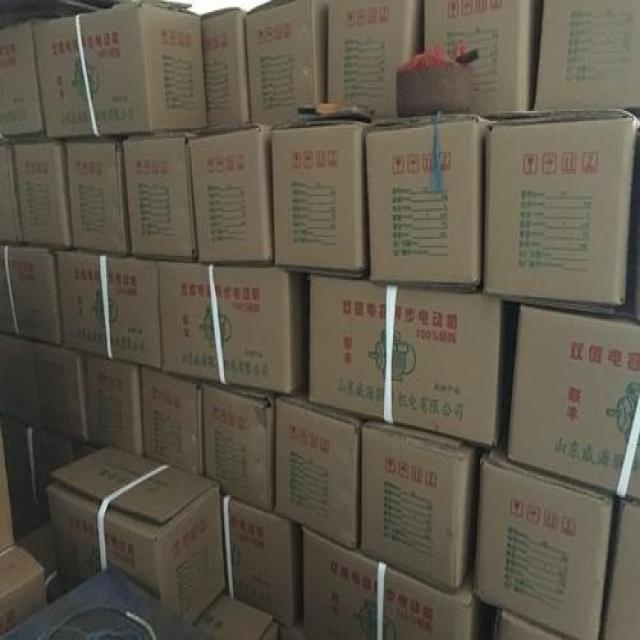box: (308, 271, 504, 451), (472, 108, 637, 319), (46, 444, 227, 625), (475, 425, 613, 640), (508, 305, 640, 502), (32, 0, 209, 138), (364, 113, 486, 292), (360, 418, 483, 594), (303, 526, 488, 640), (156, 259, 308, 396), (275, 384, 370, 550), (273, 118, 369, 276), (56, 249, 163, 370), (422, 0, 534, 113), (188, 123, 274, 266), (534, 0, 640, 109), (220, 492, 303, 628), (326, 0, 424, 114), (122, 128, 198, 263), (247, 0, 328, 125), (204, 379, 278, 514), (0, 333, 88, 445), (0, 415, 93, 519), (64, 135, 131, 258), (0, 138, 73, 249), (142, 365, 205, 476), (84, 352, 143, 456), (0, 246, 61, 346), (201, 5, 251, 126), (599, 493, 640, 640), (0, 19, 46, 138), (0, 544, 47, 637), (192, 591, 278, 640), (15, 519, 65, 599), (494, 608, 572, 640), (0, 425, 15, 553)
